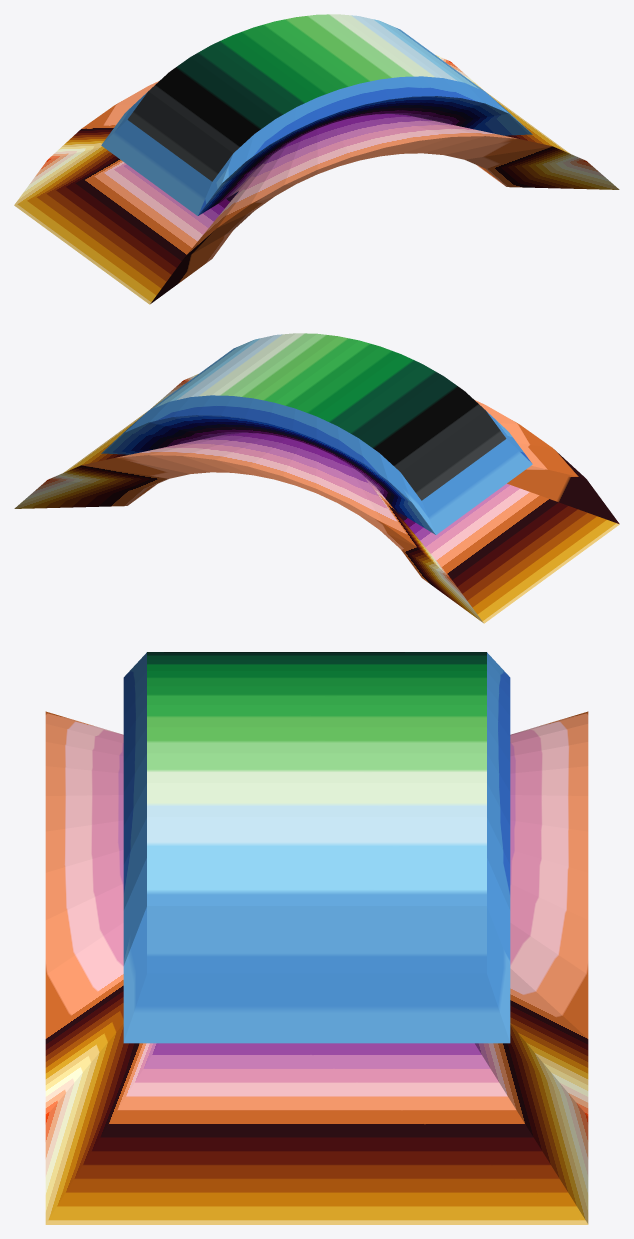
The model's file is paddle.fbx.
3 renders of one model, top to bottom at view 1: azimuth 30°, elevation 25°; view 2: azimuth 150°, elevation 25°; view 3: azimuth 270°, elevation 25°, orthographic. The views are drawn at different scales.
Parts seen in each view (by area): view 1: paddle; view 2: paddle; view 3: paddle.
Boxes of the visible parts, box(x1,y1,x2,y2) form: paddle: box(14, 14, 619, 304); paddle: box(14, 333, 619, 623); paddle: box(45, 652, 588, 1224).
Bounding box in the file's own units: 6.39 × 1.89 × 3.2.
